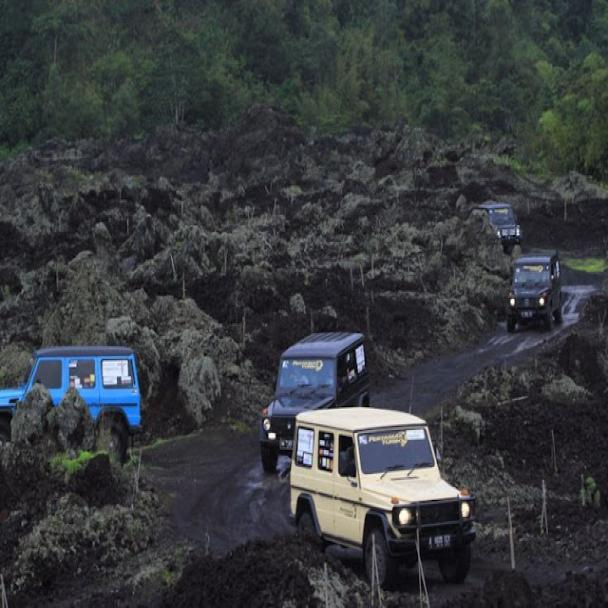Mobil: (290, 411, 474, 581), (0, 349, 142, 453), (261, 330, 369, 463), (506, 252, 562, 333)
